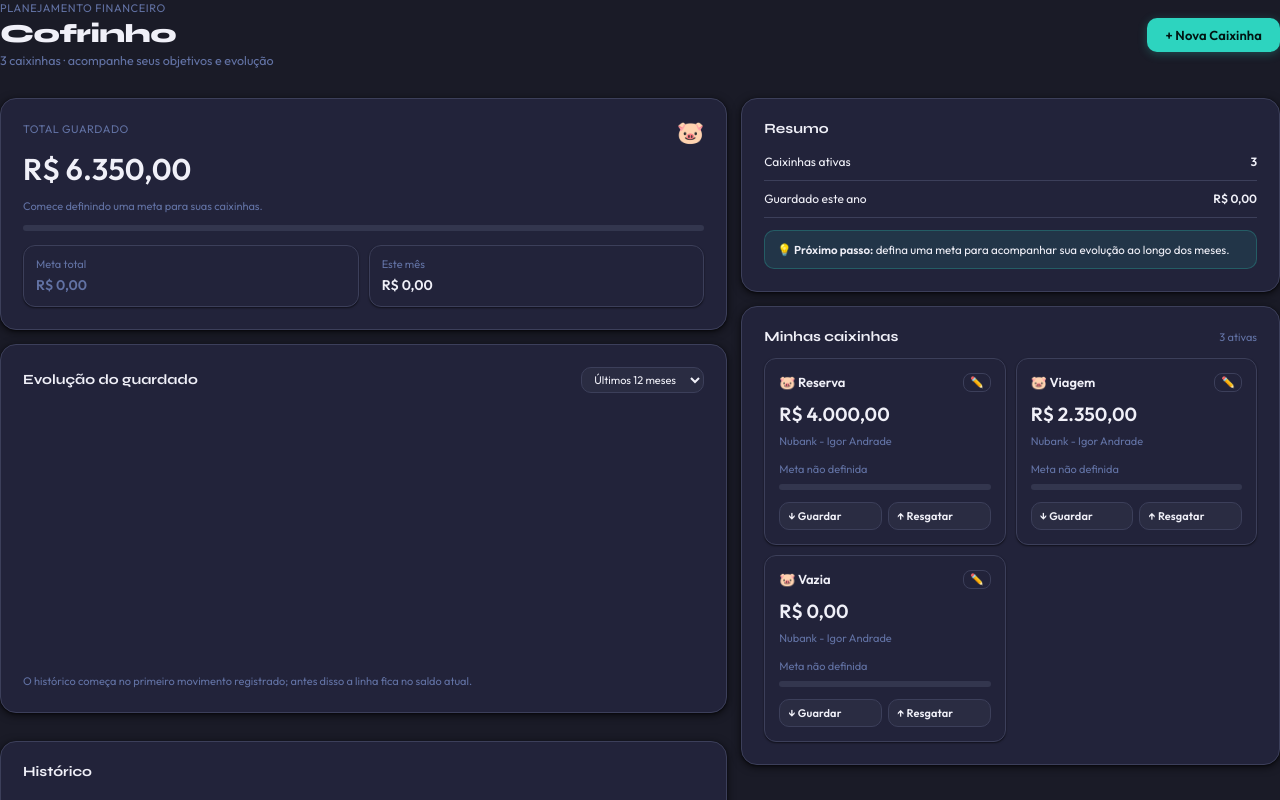
delete savings box › counts the reason up to 200 characters
Click the button titled "Renomear caixinha" next to "Reserva".
click(977, 383)  # box [963,373,991,392]
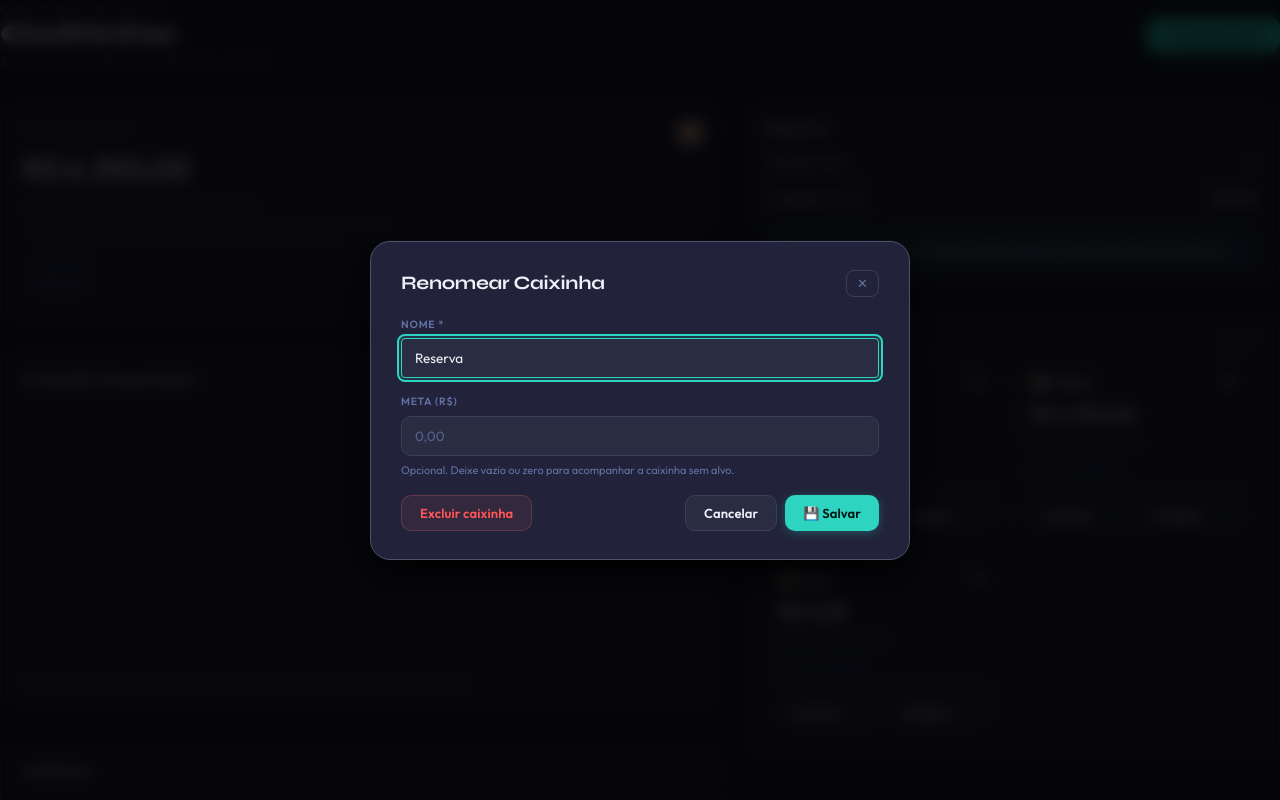
Click the button "Excluir caixinha".
click(467, 512)  # box [401,494,532,530]
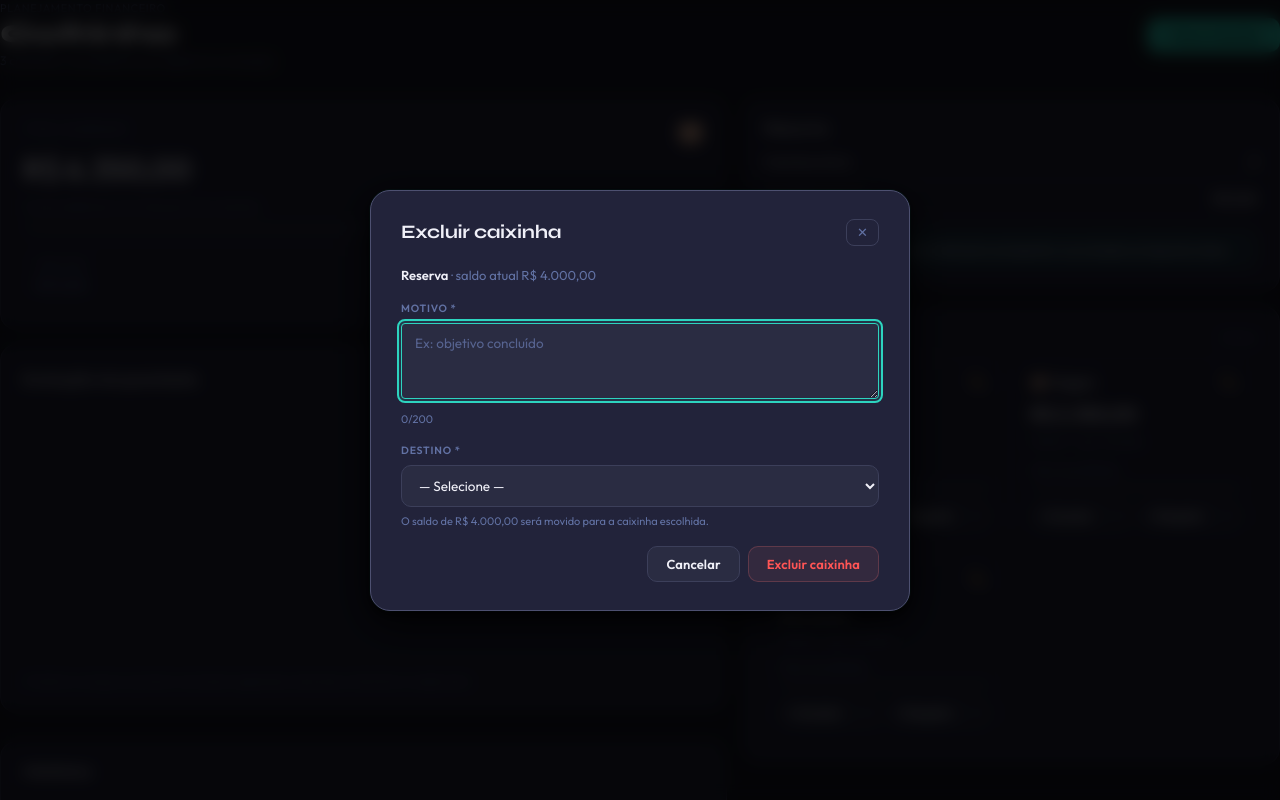
Type "abc" into the text box labelled "Motivo *".
click(640, 361); type("abc")  # box [401,323,879,399]
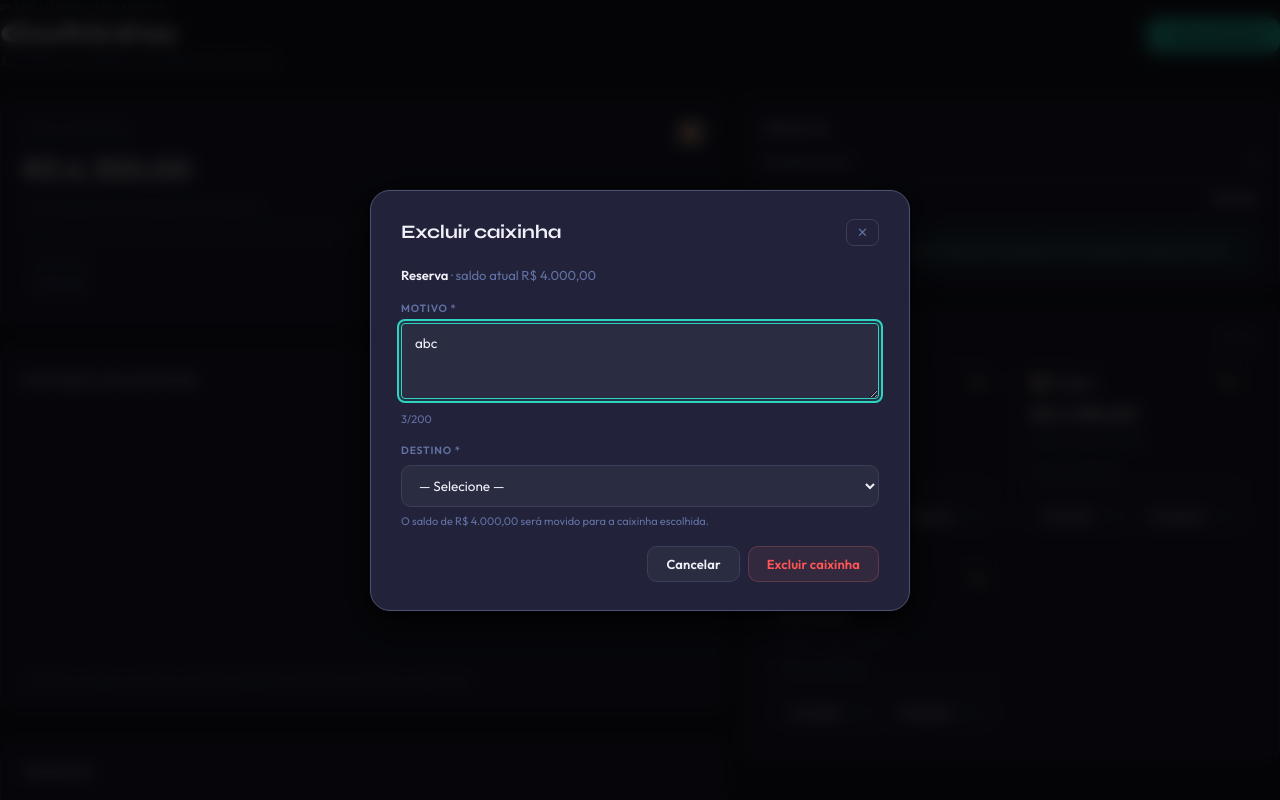
Expected: the element with class "modal" shows "3/200", [370,190,910,610]
